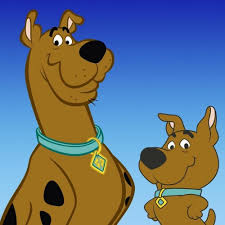scooby: (1, 8, 135, 225), (138, 105, 221, 225)
